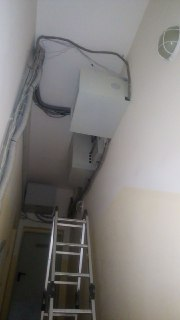shta-7m: (68, 67, 131, 140)
